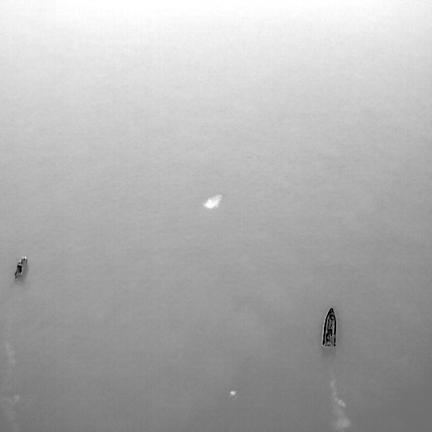flukeprints: (205, 196, 221, 208), (230, 391, 236, 399)
